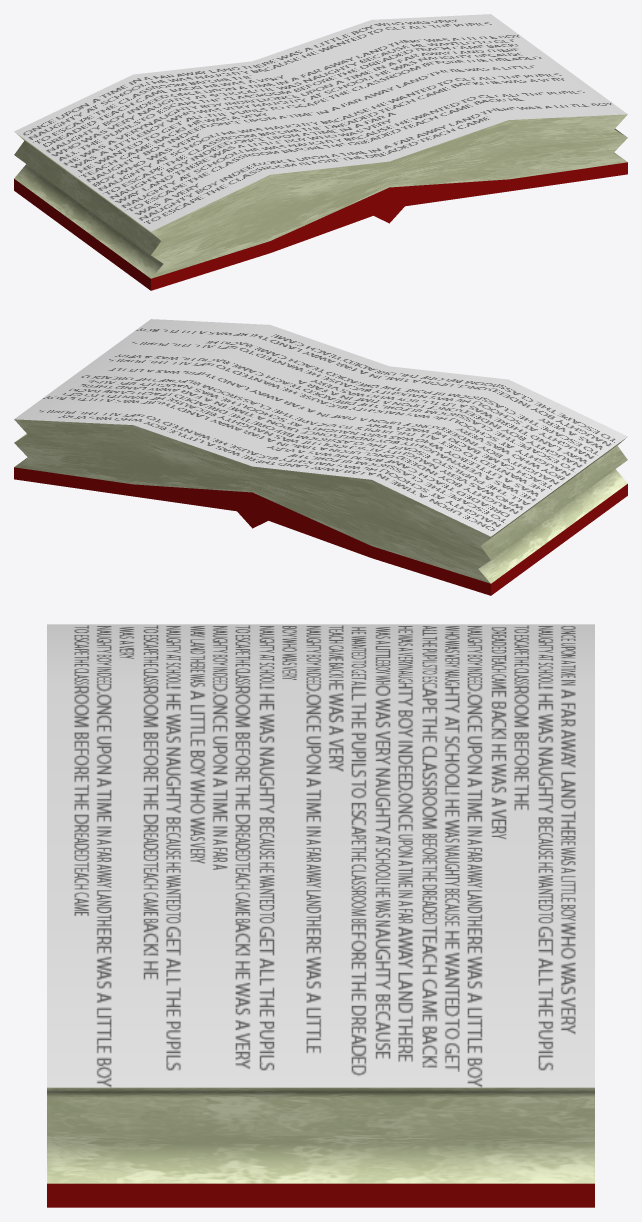
The model's file is open_book.FBX.
The picture shows the model from 3 angles, top to bottom: view 1: azimuth 30°, elevation 25°; view 2: azimuth 150°, elevation 25°; view 3: azimuth 270°, elevation 25°; orthographic projection. The views are drawn at different scales.
Visible parts, largest first — view 1: Box003; view 2: Box003; view 3: Box003.
Boxes of the visible parts, bbox=[...] form: Box003: bbox=[14, 14, 627, 290]; Box003: bbox=[14, 319, 627, 595]; Box003: bbox=[47, 624, 594, 1207].
Bounding box in the file's own units: 41.22 × 7.19 × 20.5.
